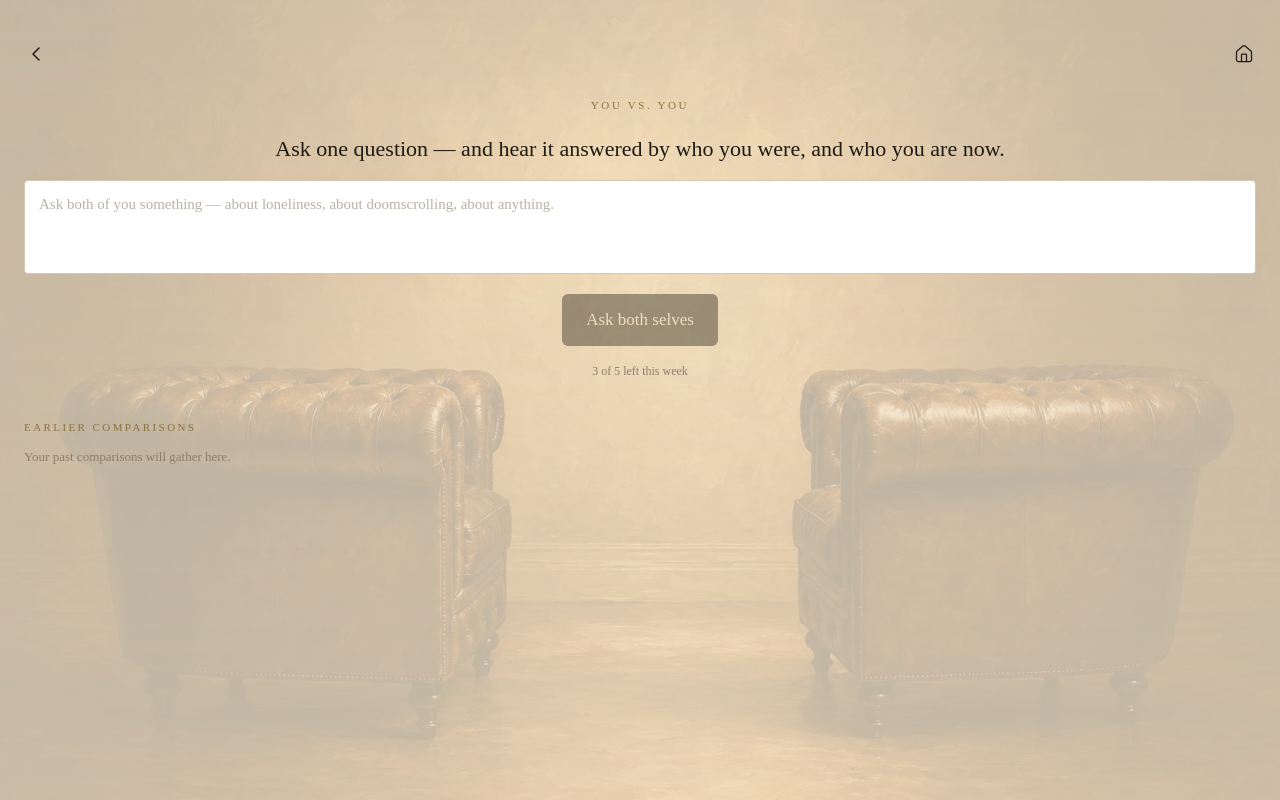
Scenario: You vs You — a self answer withheld after it streamed › shows the approved line when a recent crisis closes the comparison
Replace the text in the text box with placeholder "Ask both of you something" with "What am I afraid of?" at point(640, 227), box [24,180,1256,274]
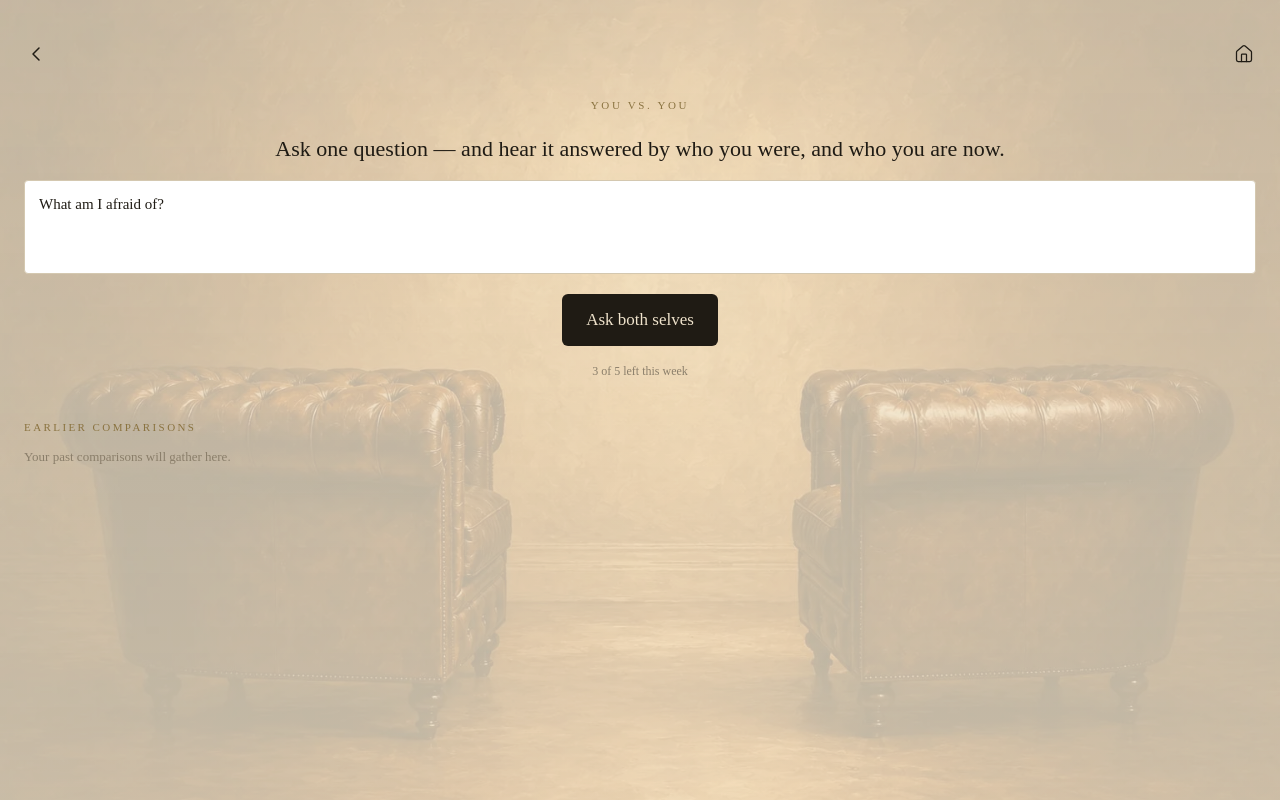
Click the button "Ask both selves" at point(640, 320), box [562,294,718,346]
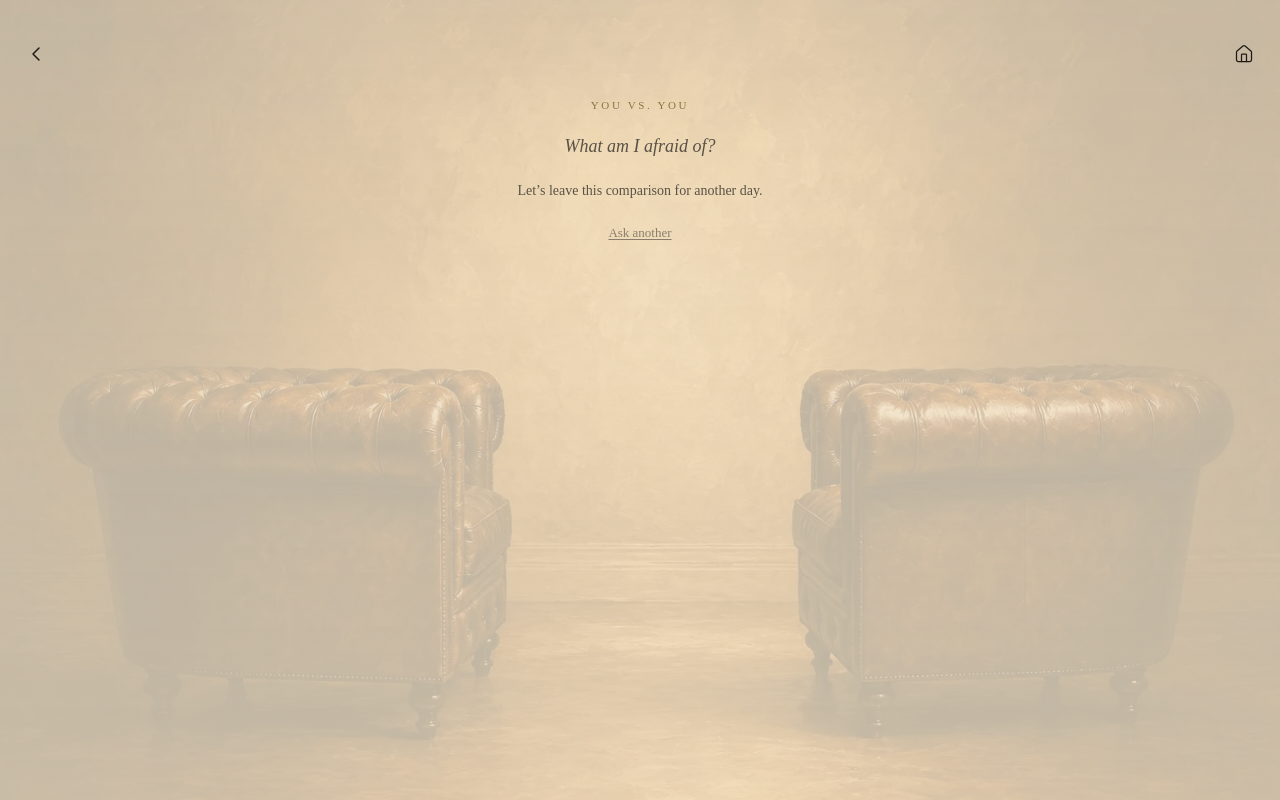
Expected: the text "Let’s leave this comparison for another day." is shown, [517,183,763,198]
